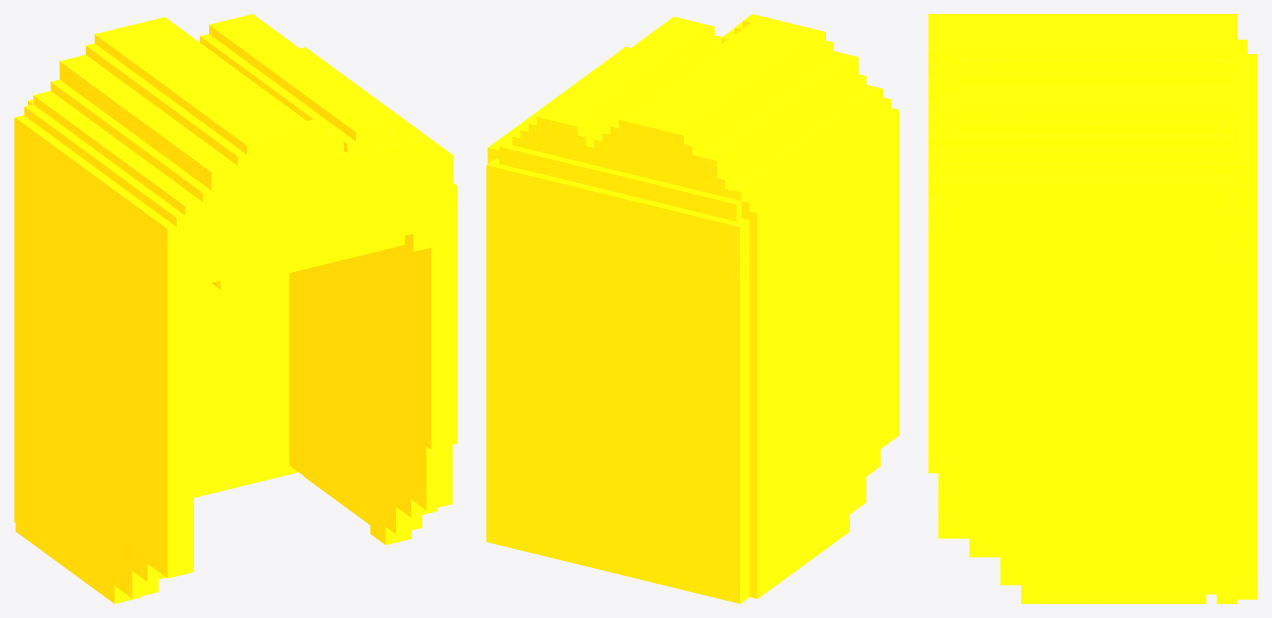
The model's file is long_yellow.glb.
3 views of the same model, side by side, from view 1: azimuth 30°, elevation 25°; view 2: azimuth 150°, elevation 25°; view 3: azimuth 270°, elevation 25° (orthographic). The views are drawn at different scales.
Parts seen in each view (by area): view 1: long_female_unwrpped; view 2: long_female_unwrpped; view 3: long_female_unwrpped.
Boxes of the visible parts, left/top/right/bottom form: long_female_unwrpped: left=14, top=14, right=457, bottom=603; long_female_unwrpped: left=486, top=14, right=899, bottom=603; long_female_unwrpped: left=928, top=14, right=1257, bottom=603.
Bounding box in the file's own units: 3.3 × 5.2 × 3.2.
Materials: 1 (1 with a texture image).
